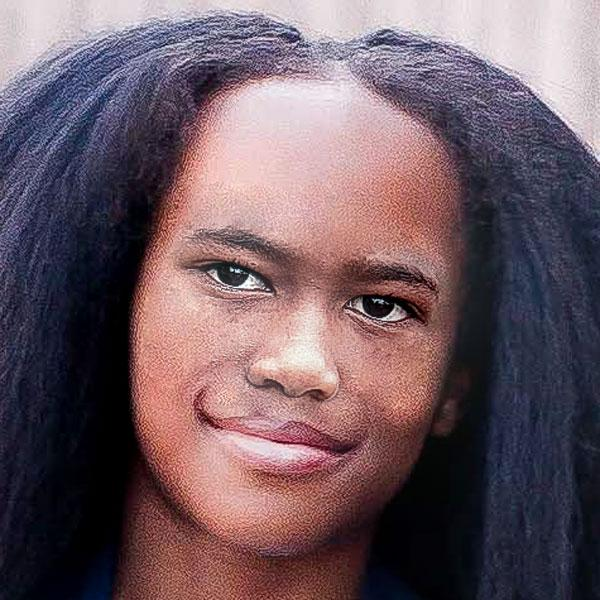Eyes: (185, 246, 280, 304), (334, 283, 423, 336)
